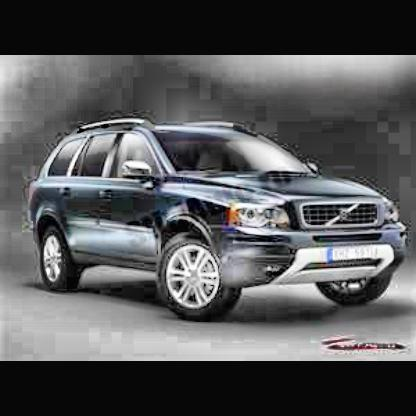Volvo XC90 SUV 2007: (29, 120, 410, 326)
